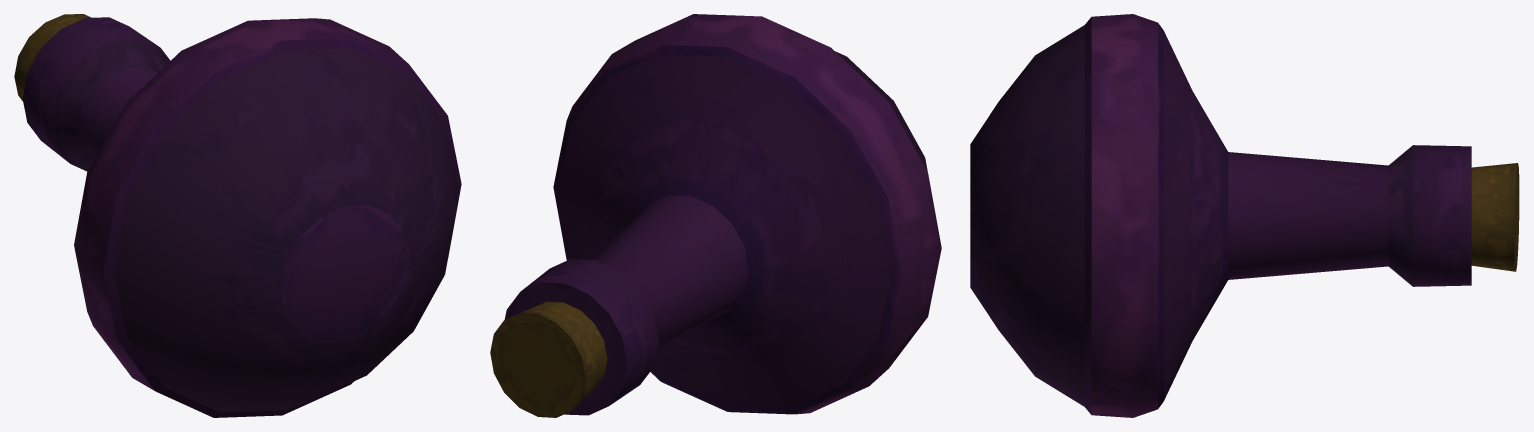
Rendered from fp-potion-4-lod1.glb.
3 renders of one model, left to right at view 1: azimuth 30°, elevation 25°; view 2: azimuth 150°, elevation 25°; view 3: azimuth 270°, elevation 25°, orthographic. The views are drawn at different scales.
Visible parts, largest first — view 1: WeaponMesh_fp-potion-4_Potion_4; view 2: WeaponMesh_fp-potion-4_Potion_4; view 3: WeaponMesh_fp-potion-4_Potion_4.
Boxes of the visible parts, bbox=[...] form: WeaponMesh_fp-potion-4_Potion_4: bbox=[14, 14, 461, 417]; WeaponMesh_fp-potion-4_Potion_4: bbox=[490, 14, 941, 417]; WeaponMesh_fp-potion-4_Potion_4: bbox=[970, 14, 1519, 417].
Size of the model in its own units: 0.3683 by 0.3683 by 0.5.
1 material, 1 textured.
